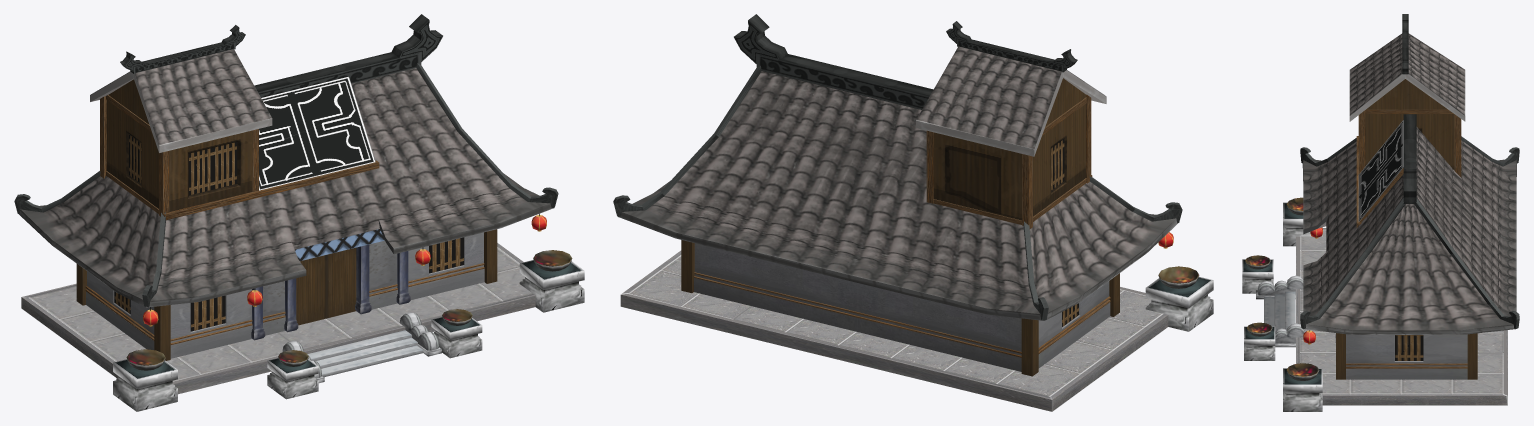
The model's file is build.fbx.
3 renders of one model, left to right at view 1: azimuth 30°, elevation 25°; view 2: azimuth 150°, elevation 25°; view 3: azimuth 270°, elevation 25°, orthographic. The views are drawn at different scales.
Visible parts, largest first — view 1: 05, 07, 04, 03, 02, 06, 01; view 2: 05, 07, 04, 03, 06, 02; view 3: 05, 07, 04, 03, 02, 06, 01.
Boxes of the visible parts, box(x1,y1,x2,y2) form: 05: box(19, 68, 552, 307); 07: box(21, 49, 535, 394); 04: box(86, 76, 484, 358); 03: box(76, 79, 497, 360); 02: box(113, 214, 584, 411); 06: box(14, 14, 558, 307); 01: box(282, 312, 441, 383); 05: box(619, 71, 1177, 320); 07: box(620, 46, 1168, 411); 04: box(694, 243, 1110, 371); 03: box(681, 78, 1119, 376); 06: box(613, 14, 1182, 320); 02: box(1145, 232, 1213, 331); 05: box(1302, 127, 1516, 334); 07: box(1296, 33, 1507, 405); 04: box(1346, 120, 1467, 379); 03: box(1335, 79, 1477, 379); 02: box(1242, 197, 1322, 411); 06: box(1300, 14, 1519, 329); 01: box(1256, 275, 1305, 347).
Size of the model in its own units: 3665 by 2266 by 2355.
Materials: 7 (7 with a texture image).
